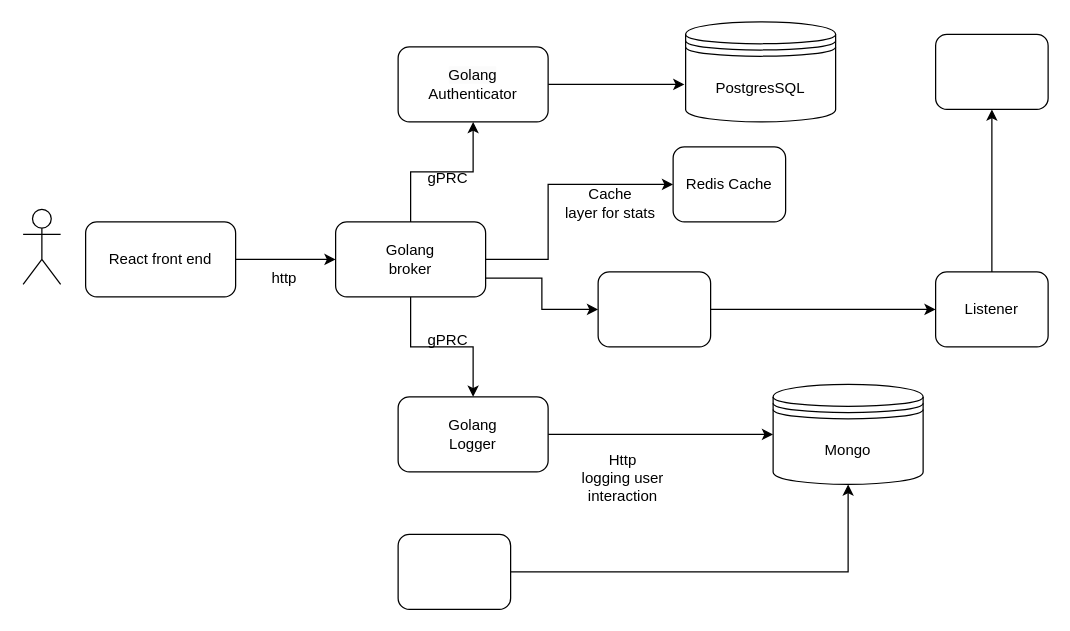
Image size: 1070x631. Some labels were removed from this diagram. The shapes that lost their labels are listed below. From the top down, each one's centre as x and y in pixels, then its label:
(991,71): Golang Mailer
(41,246): Visiter
(654,309): RabbitMQ
(454,571): Python batch Provess
